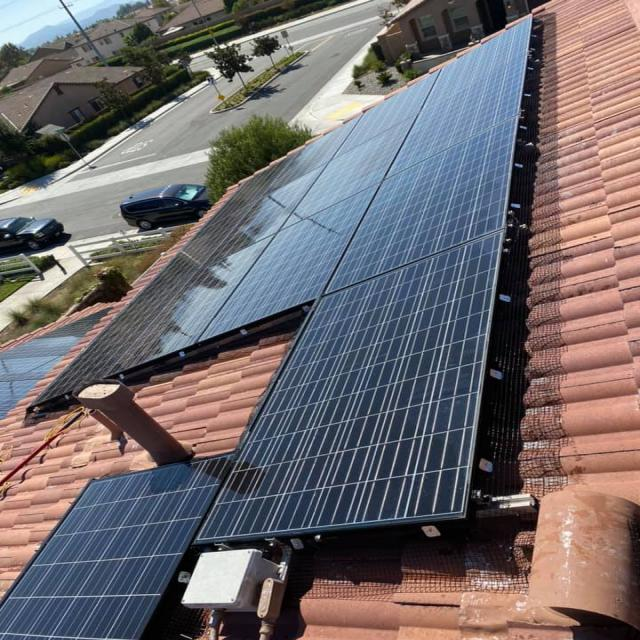clean-solar-panel: (43, 20, 529, 544)
